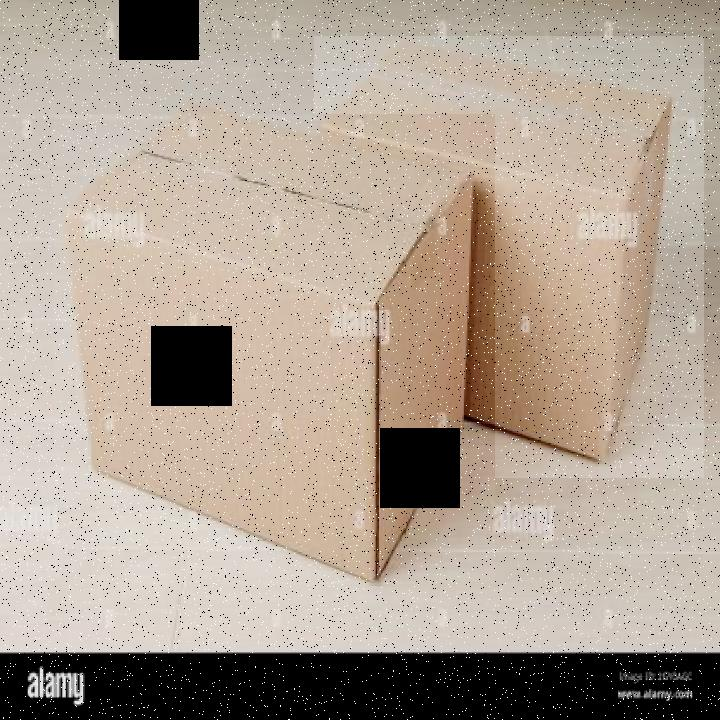box: (54, 114, 495, 584), (314, 36, 704, 478)
